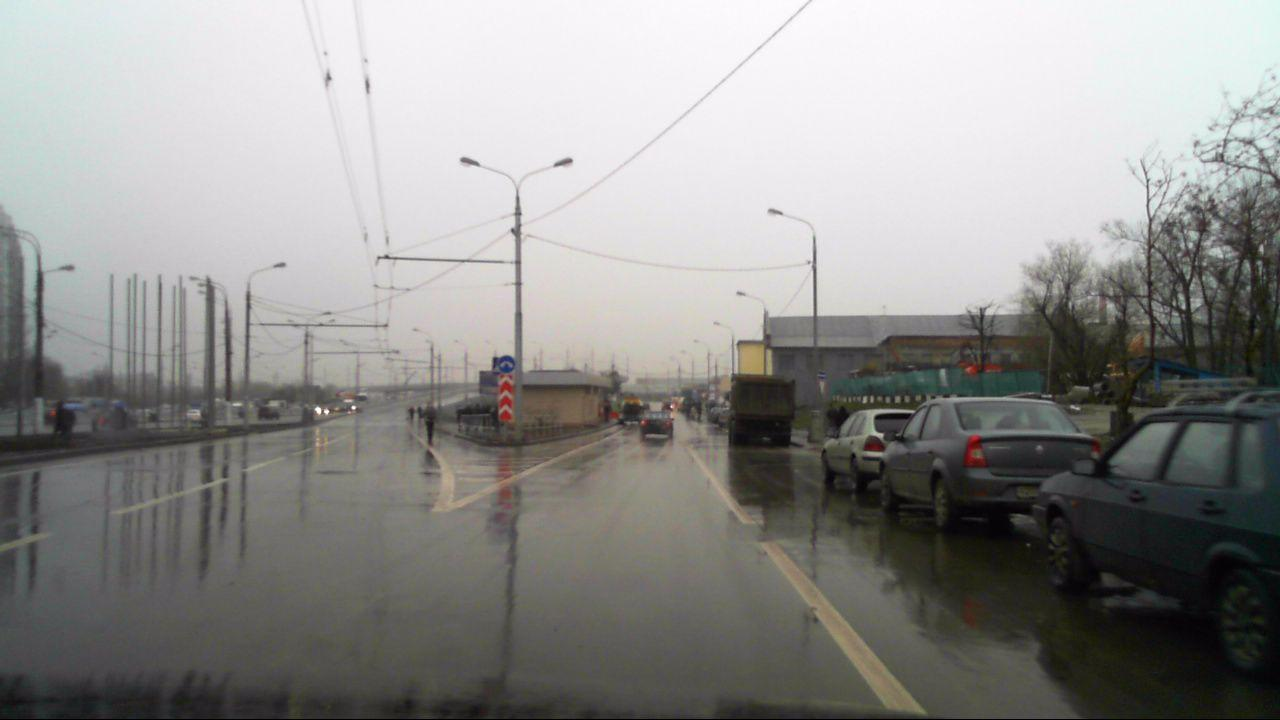road_sign: (498, 374, 514, 422), (497, 355, 515, 373)
